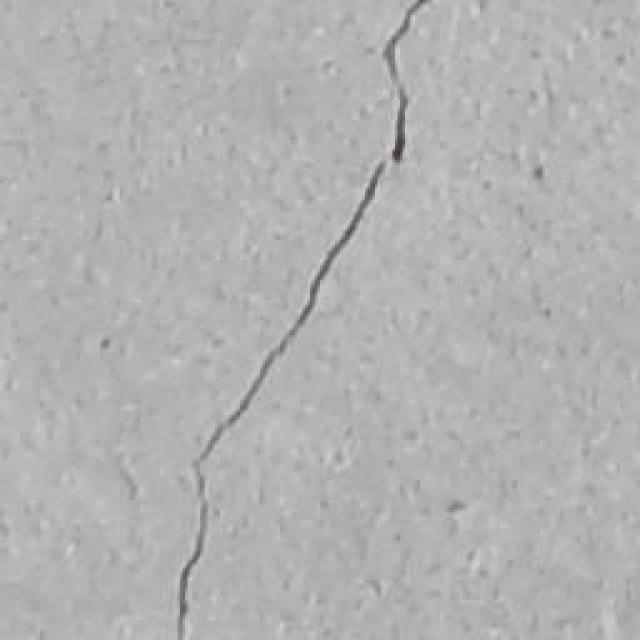concrete-crack: (170, 0, 439, 640)
